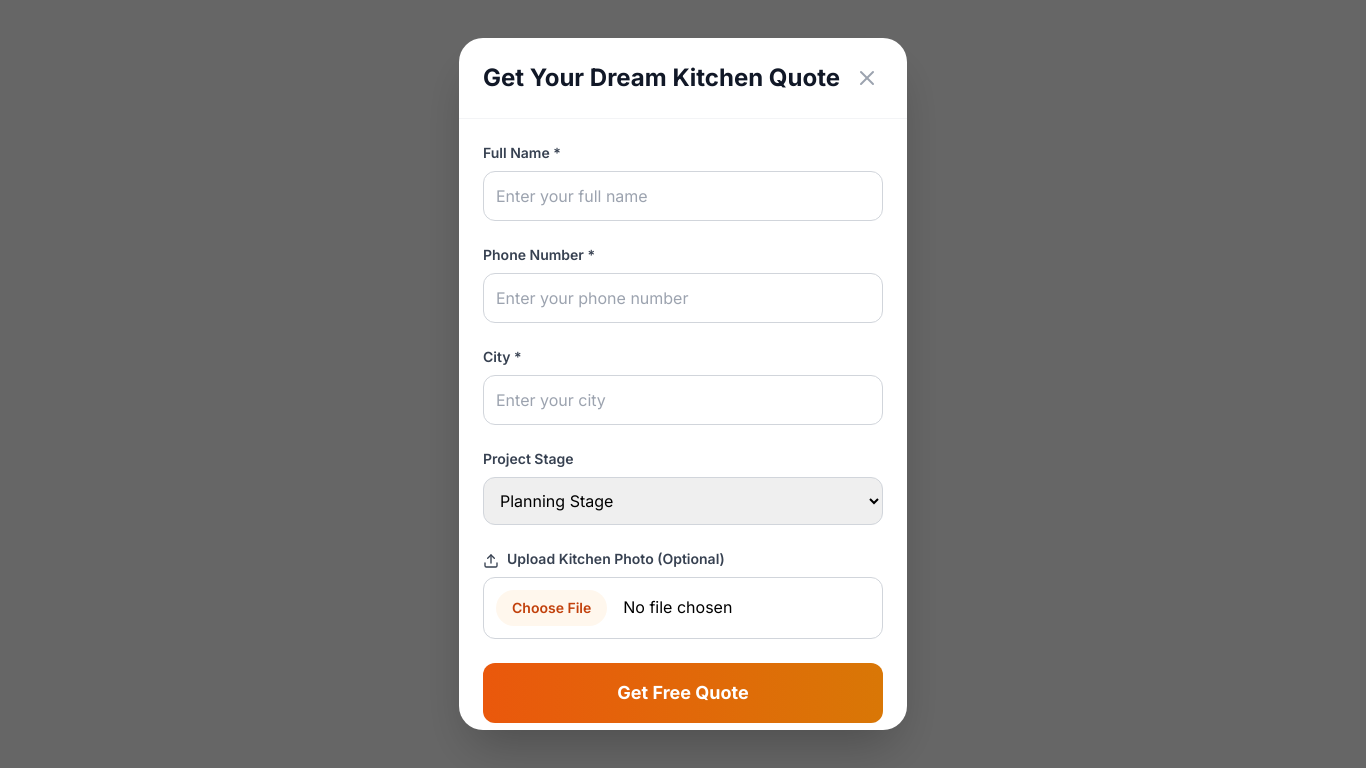
Scenario: ContactModal › submits form successfully
The image size is (1366, 768).
Type "John Doe" into the field with placeholder "Enter your full name". click: (683, 196)
box: [483, 171, 883, 221]
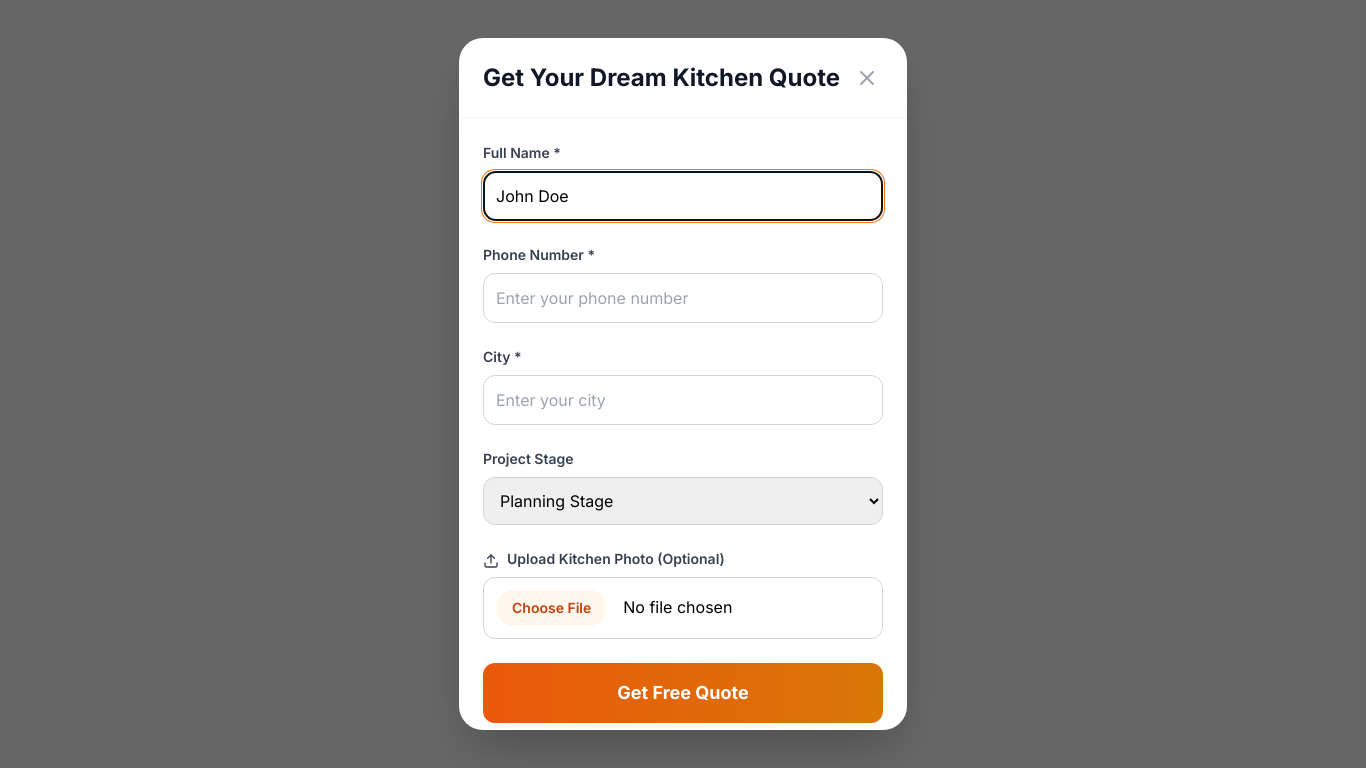
Type "9876543210" into the field with placeholder "Enter your phone number". click: (683, 298)
box: [483, 273, 883, 323]
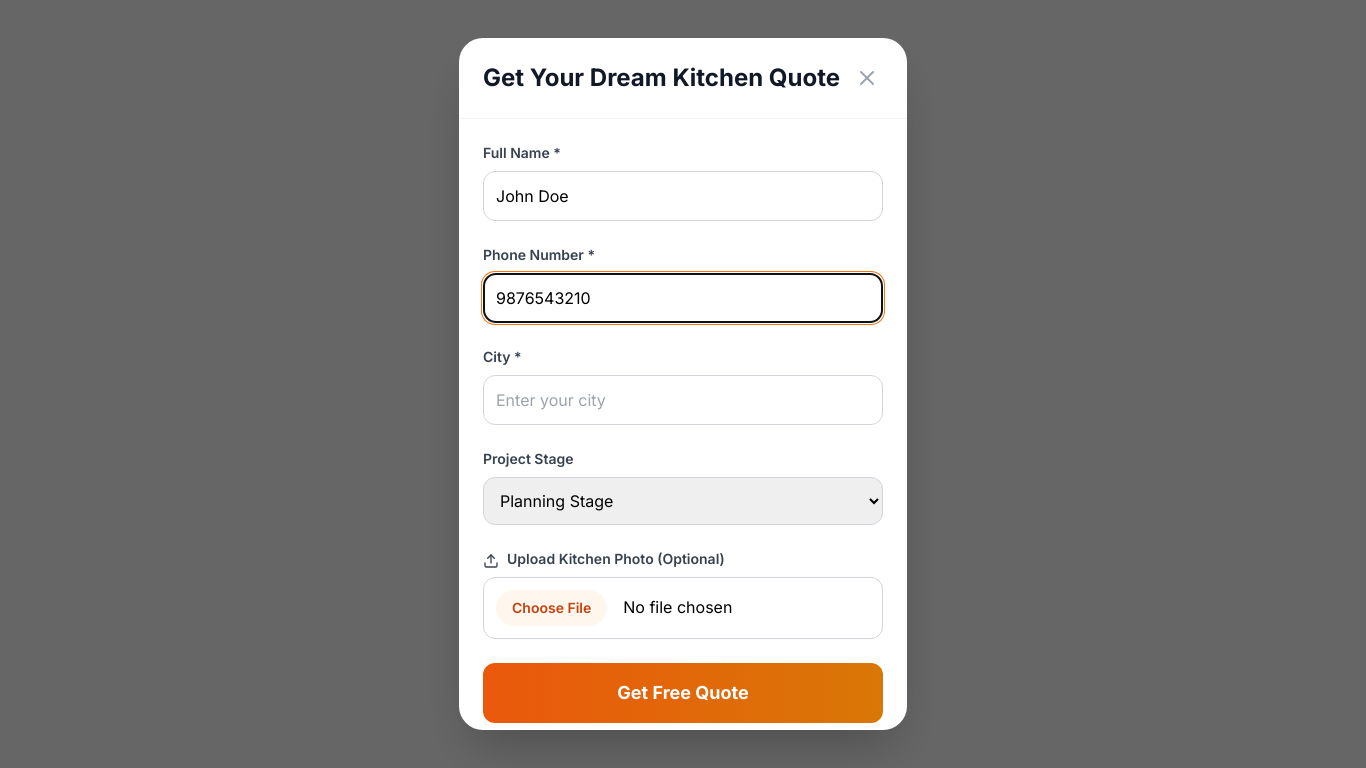
Type "Mumbai" into the field with placeholder "Enter your city". click: (683, 400)
box: [483, 375, 883, 425]
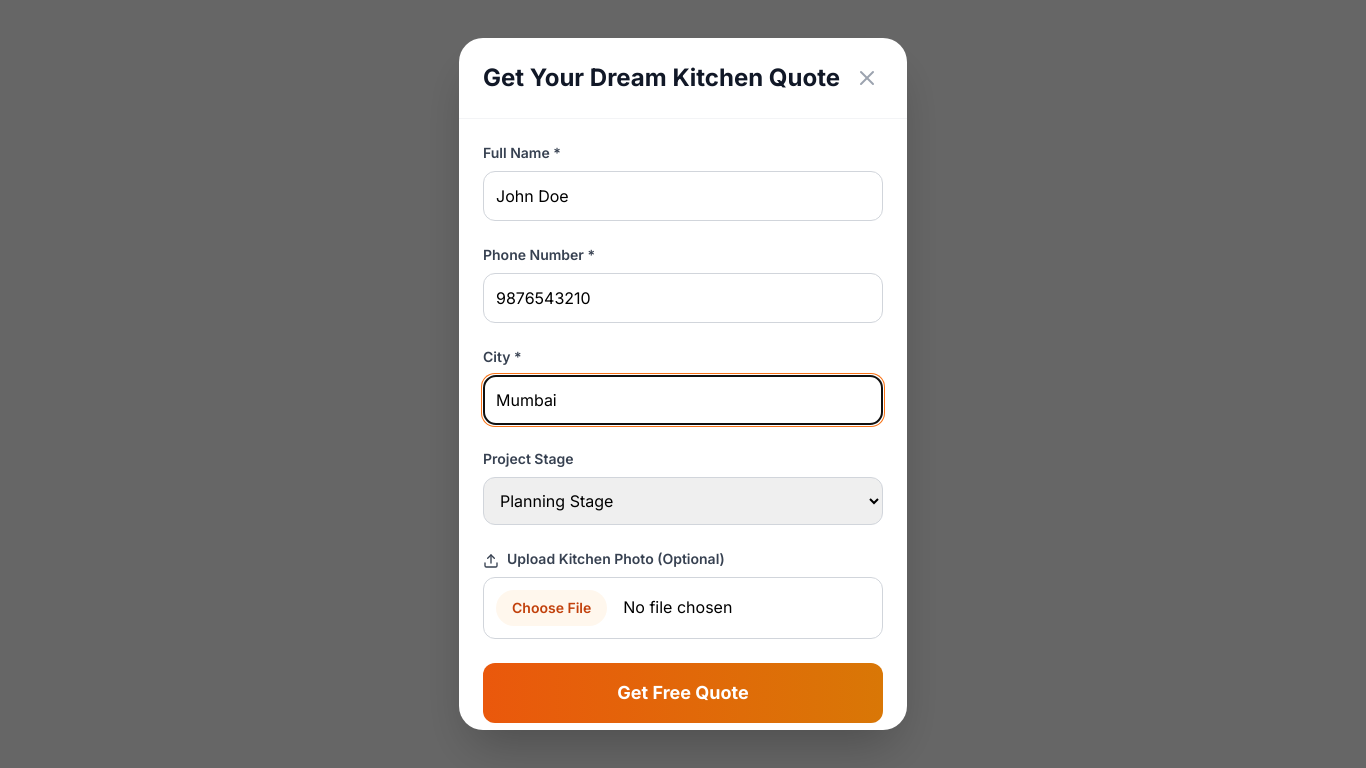
Click the button "Get Free Quote". click: (683, 693)
box: [483, 663, 883, 723]
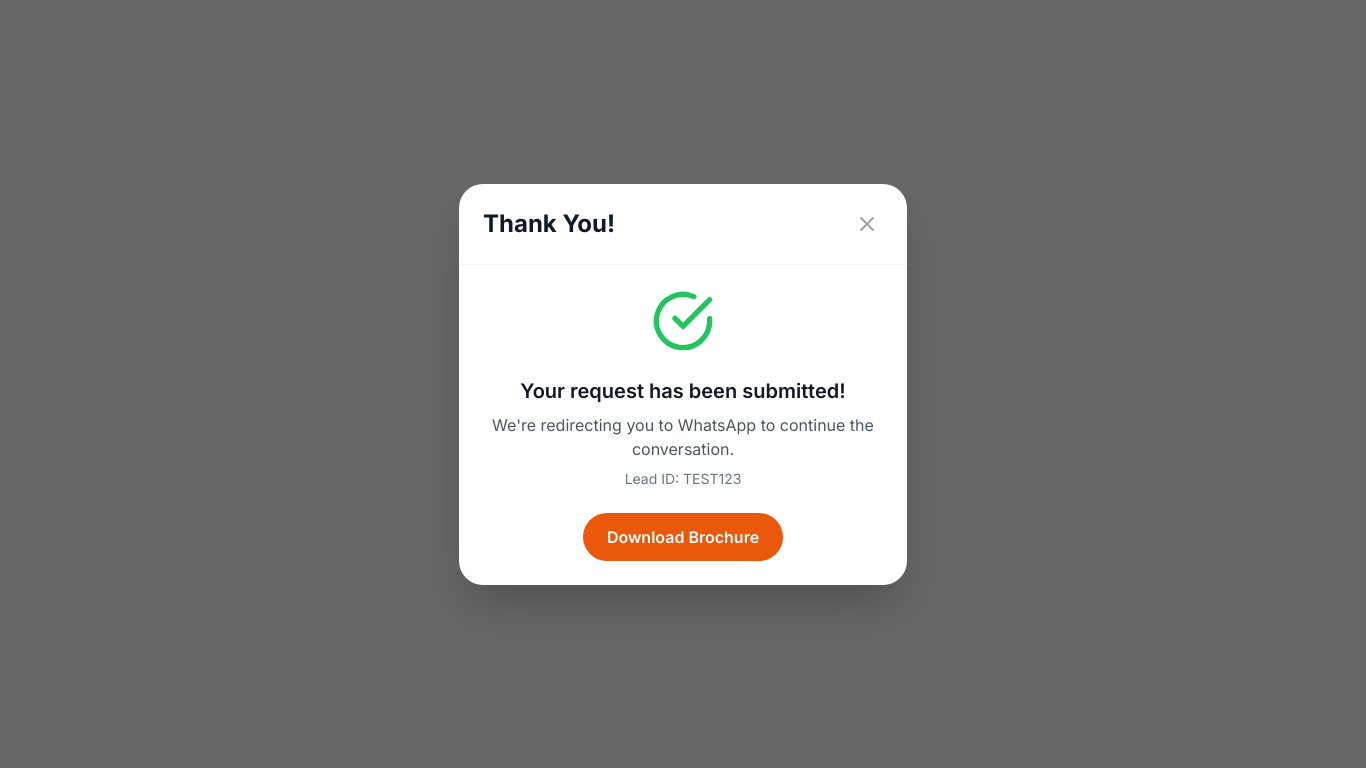
Result: the heading "Your request has been submitted!" is shown at [520, 378, 846, 402]
